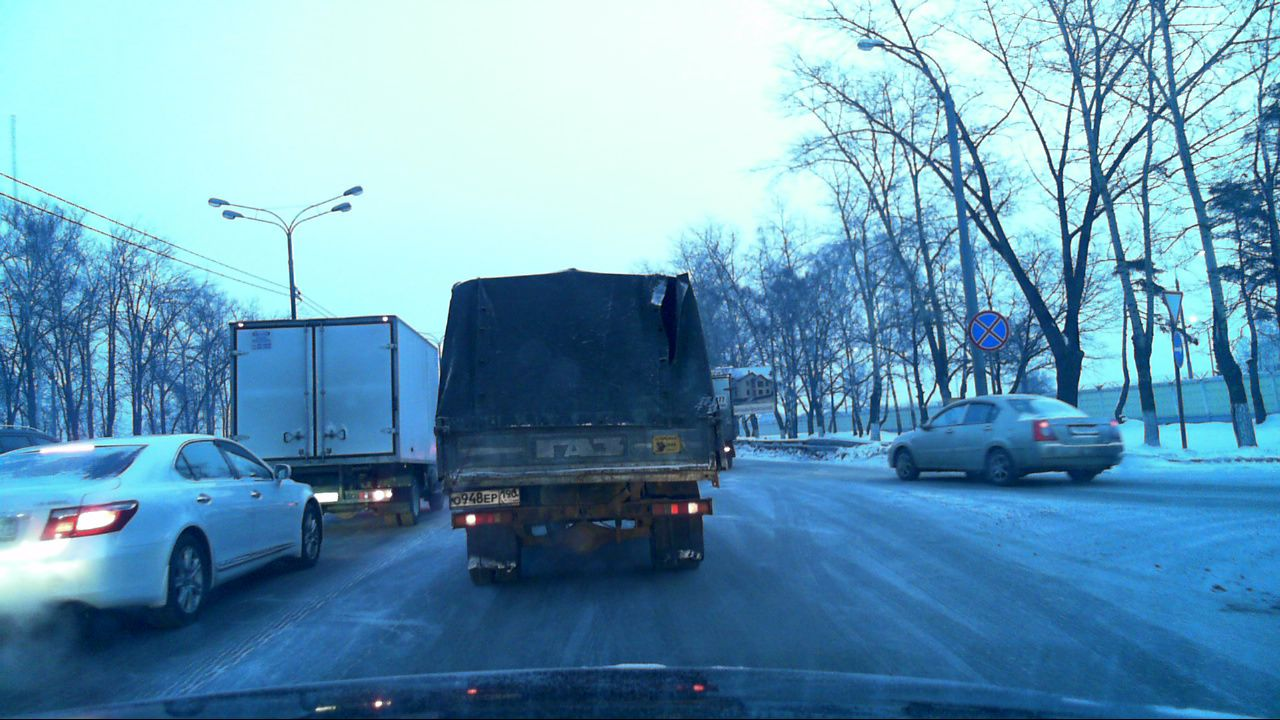No Parking: (968, 310, 1009, 351)
